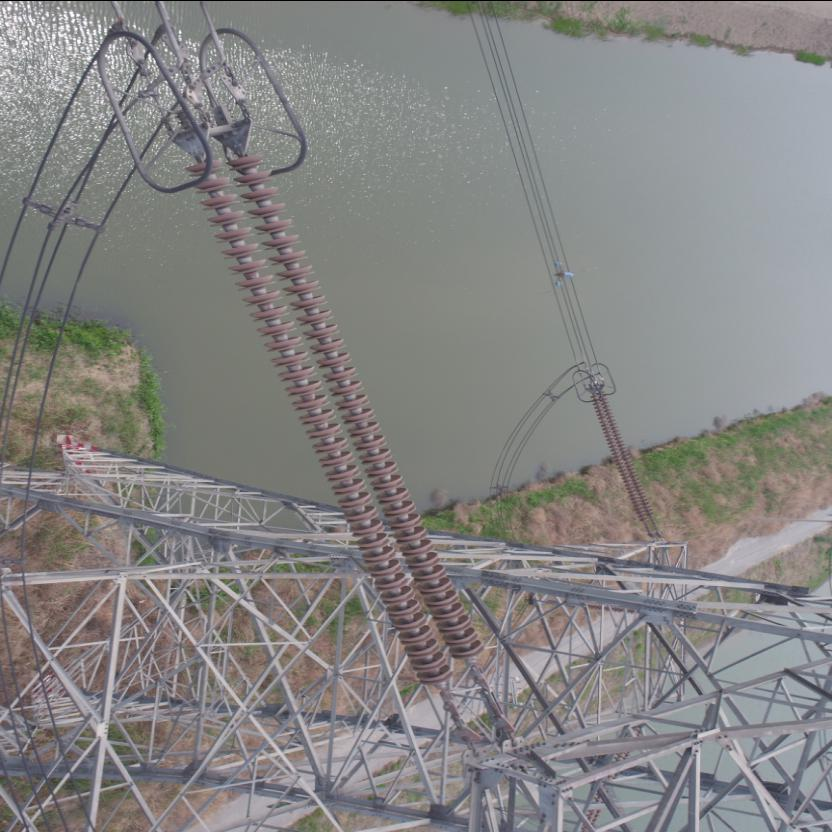insulator: (184, 141, 492, 713), (590, 391, 660, 531)
